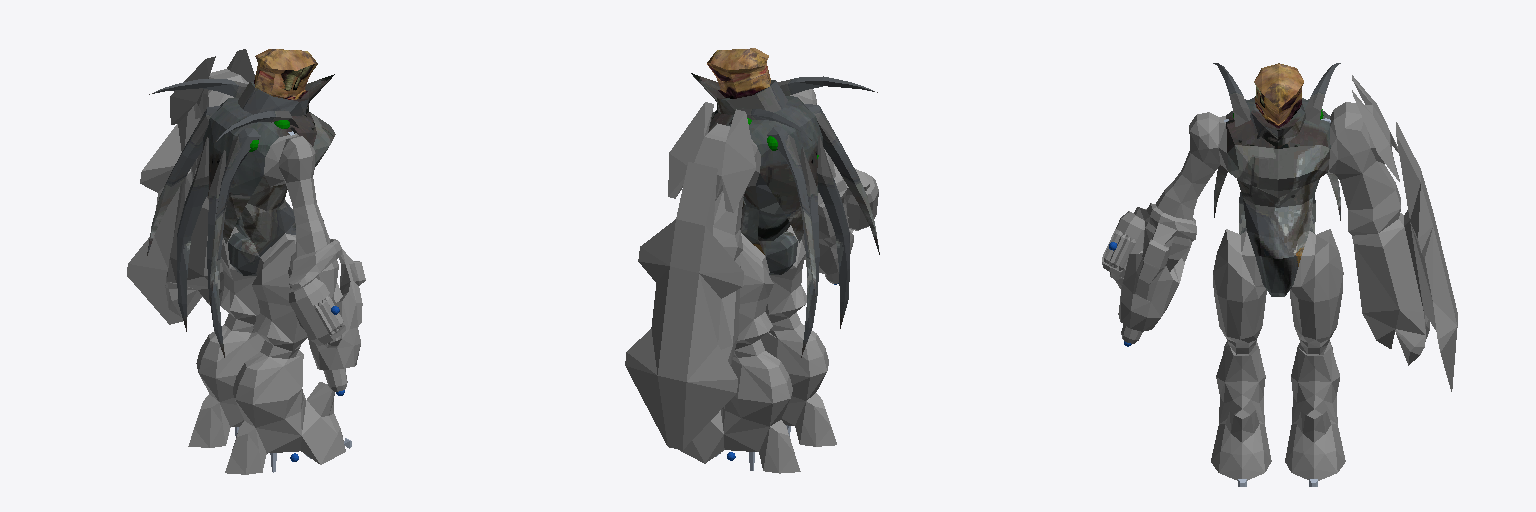
3 renders of one model, left to right at view 1: azimuth 30°, elevation 25°; view 2: azimuth 150°, elevation 25°; view 3: azimuth 270°, elevation 25°, orthographic.
Visible parts, largest first — view 1: __unnamed; view 2: __unnamed; view 3: __unnamed.
Part boxes in pixels (left/top/right/bottom): __unnamed: left=127, top=49, right=365, bottom=474; __unnamed: left=625, top=48, right=879, bottom=473; __unnamed: left=1102, top=63, right=1457, bottom=480.
Size of the model in its own units: 40.72 by 99.52 by 79.32.
8 materials, 2 textured.